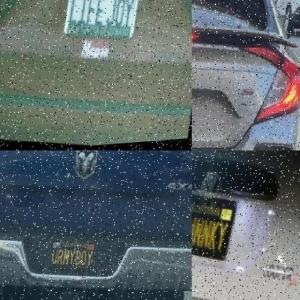Plate: (62, 0, 142, 45), (192, 190, 233, 267), (46, 238, 98, 274)
